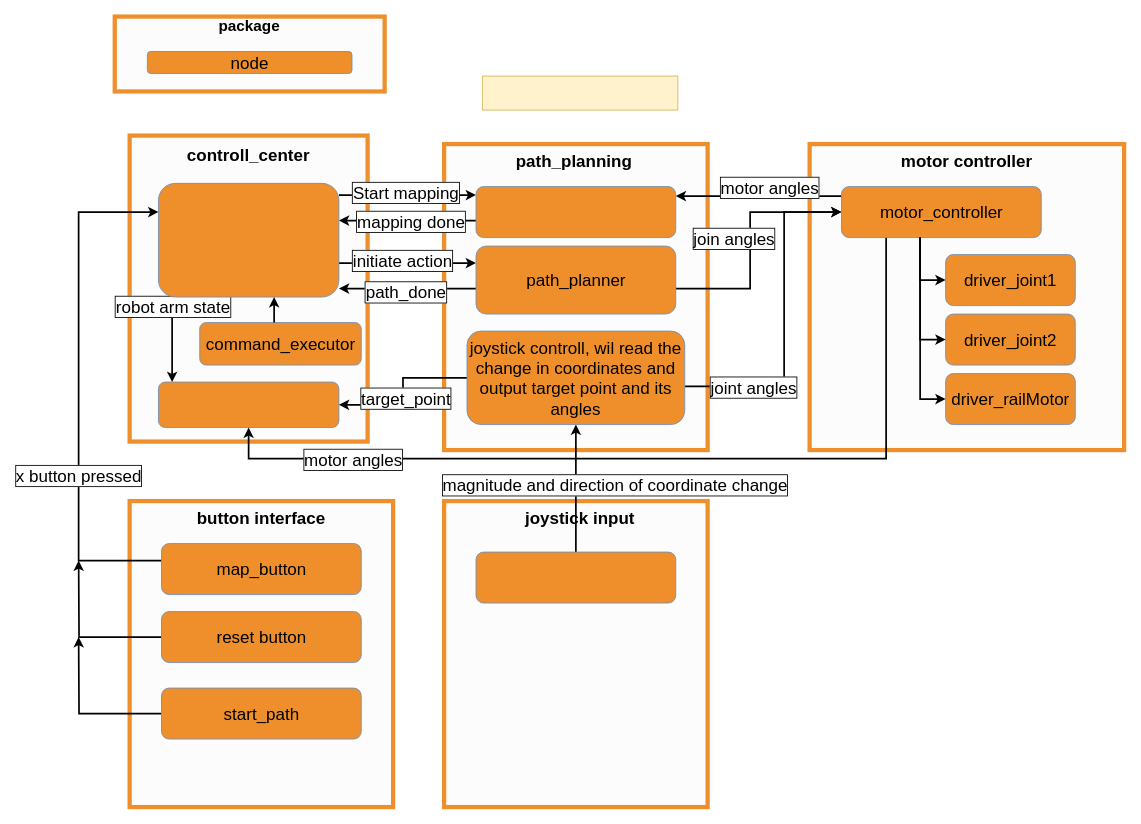
Some shapes in this 1141 by 824 pixel diagram are drawn without their labels. The shapes that lost their labels are listed below. From the top down, each one's centre as x and y in pixels, then its label:
At point 580,92: "ROS workspace".
At point 575,212: "auto_mapper".
At point 248,239: "action_controller".
At point 248,404: "display".
At point 575,577: "joystick reader".
